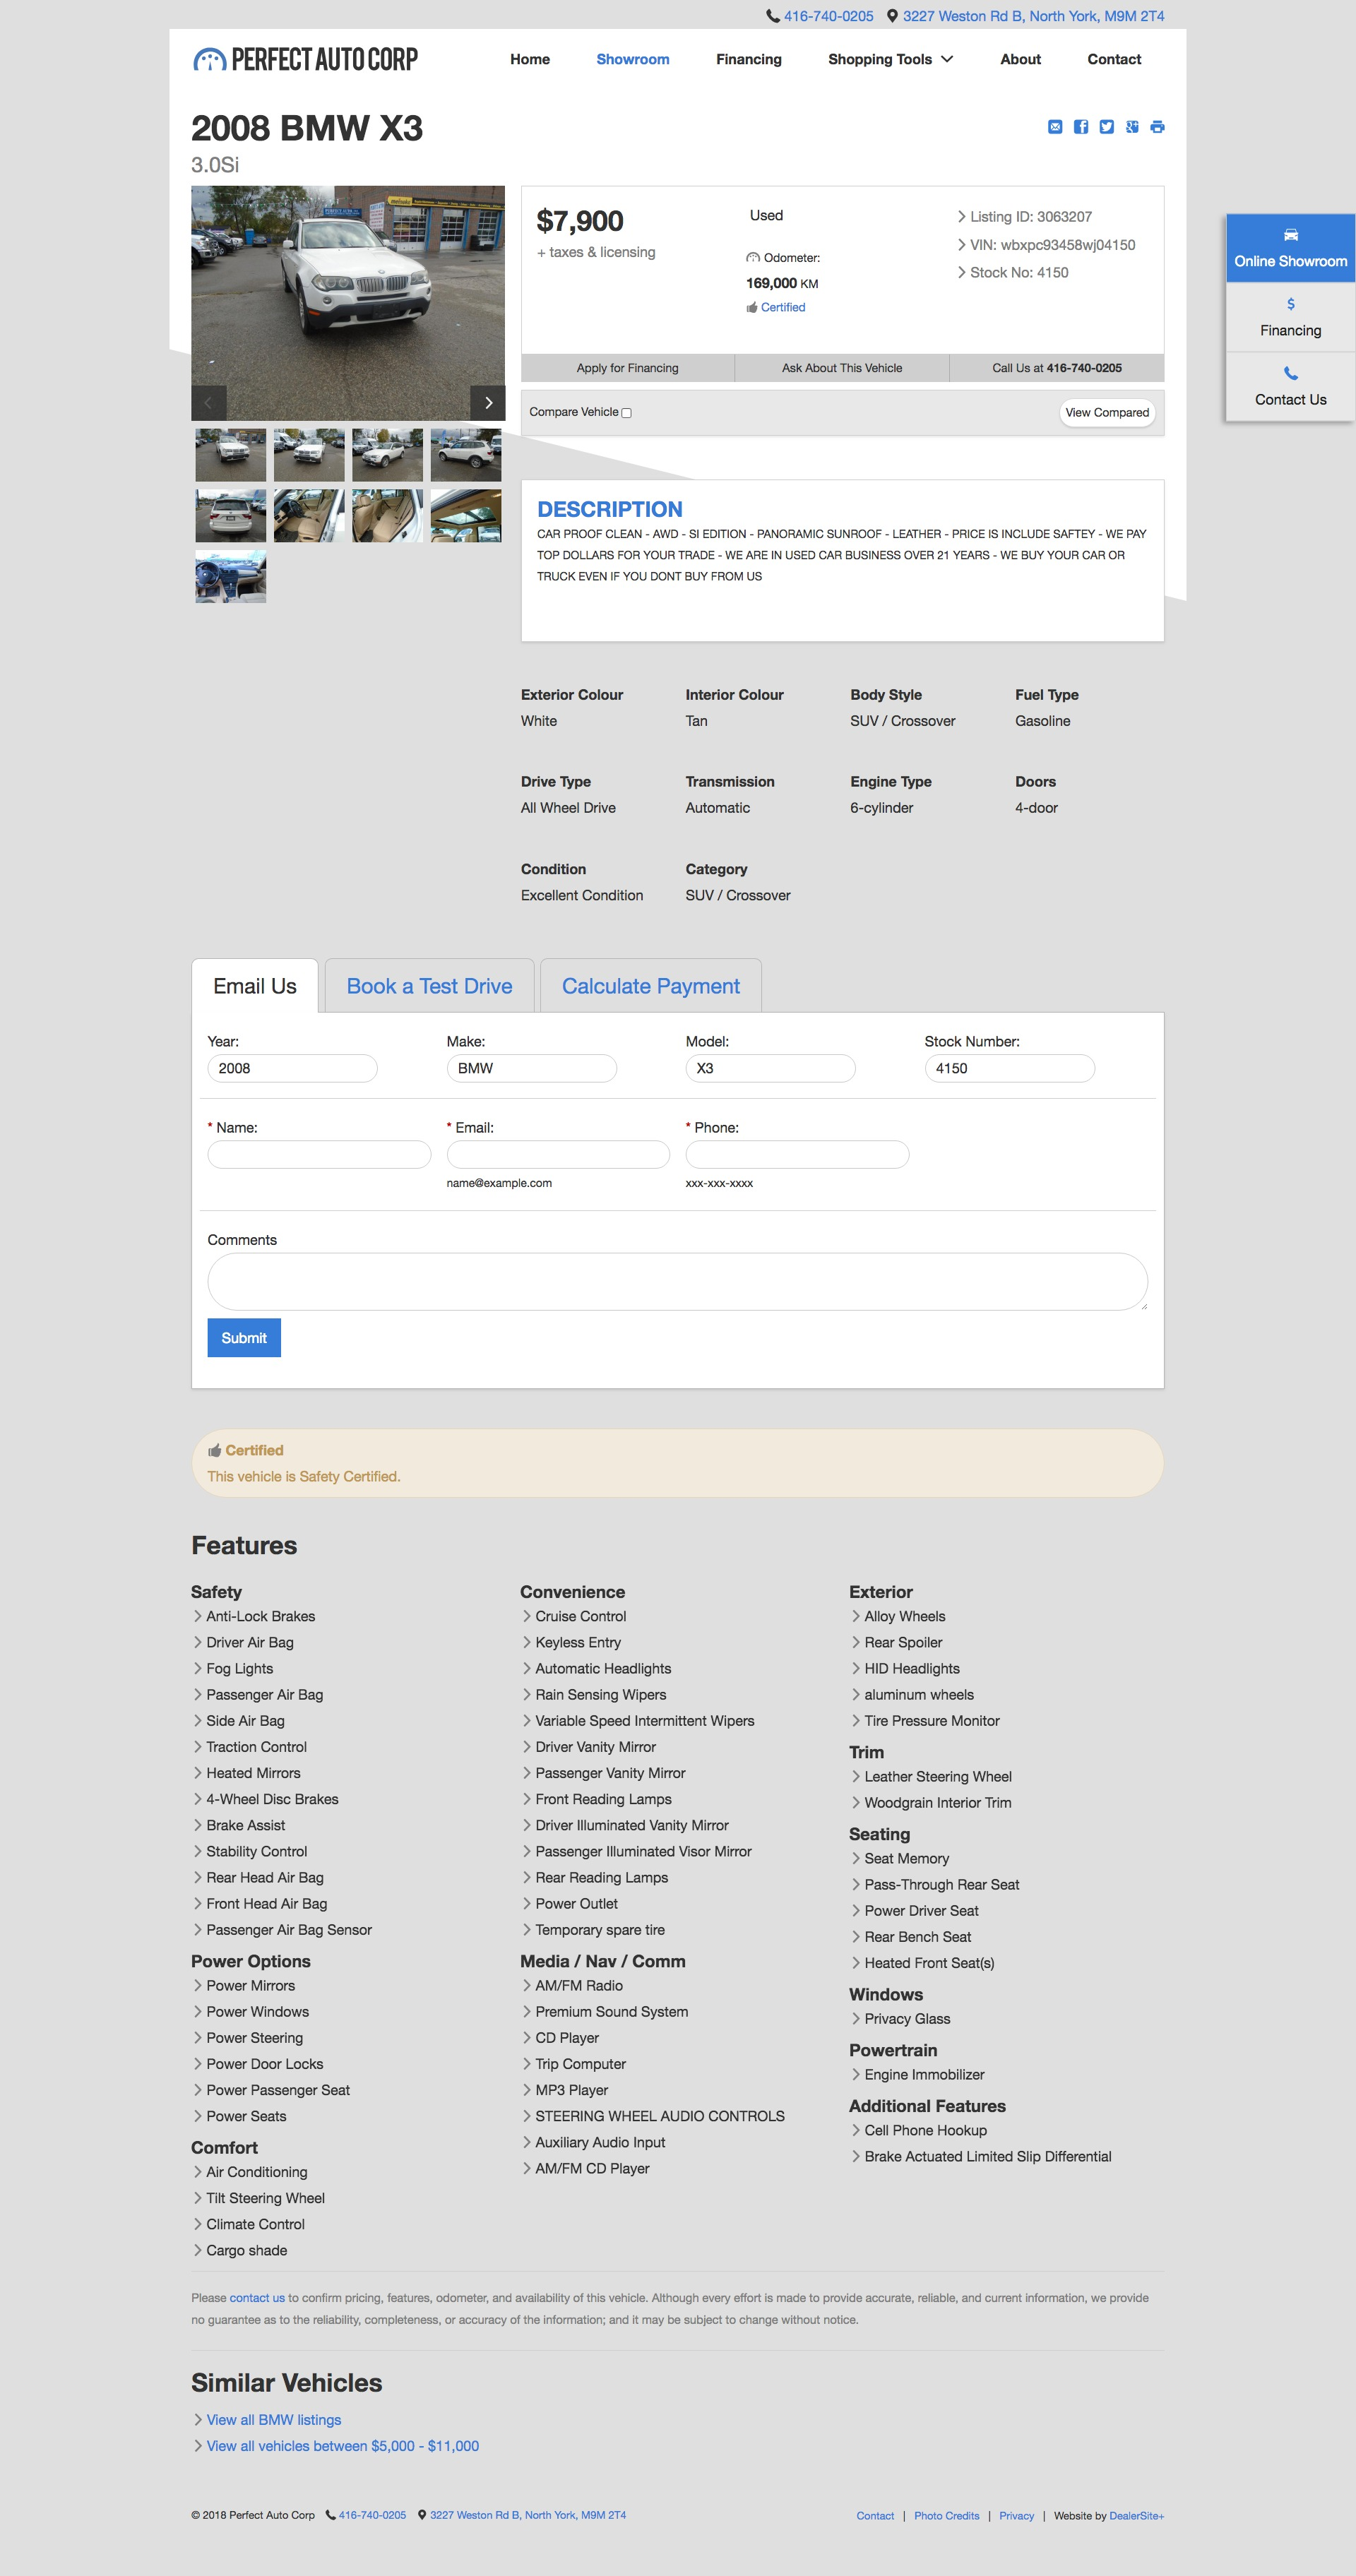car: (472, 385, 508, 423)
